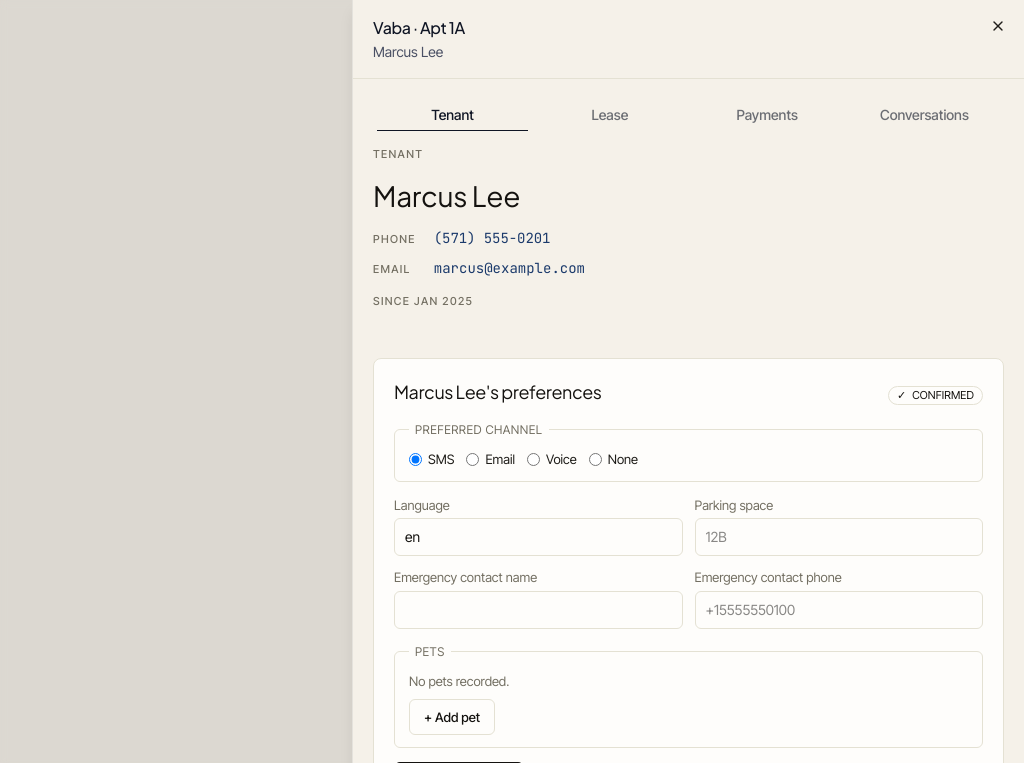
Test: UnitDetailDrawer › open with full detail › switches to Lease tab and renders LeaseBlock
Step 1. Click the tab with test id "unit-detail-tab-lease" → (610,115), box x1=533 y1=102 x2=687 y2=128
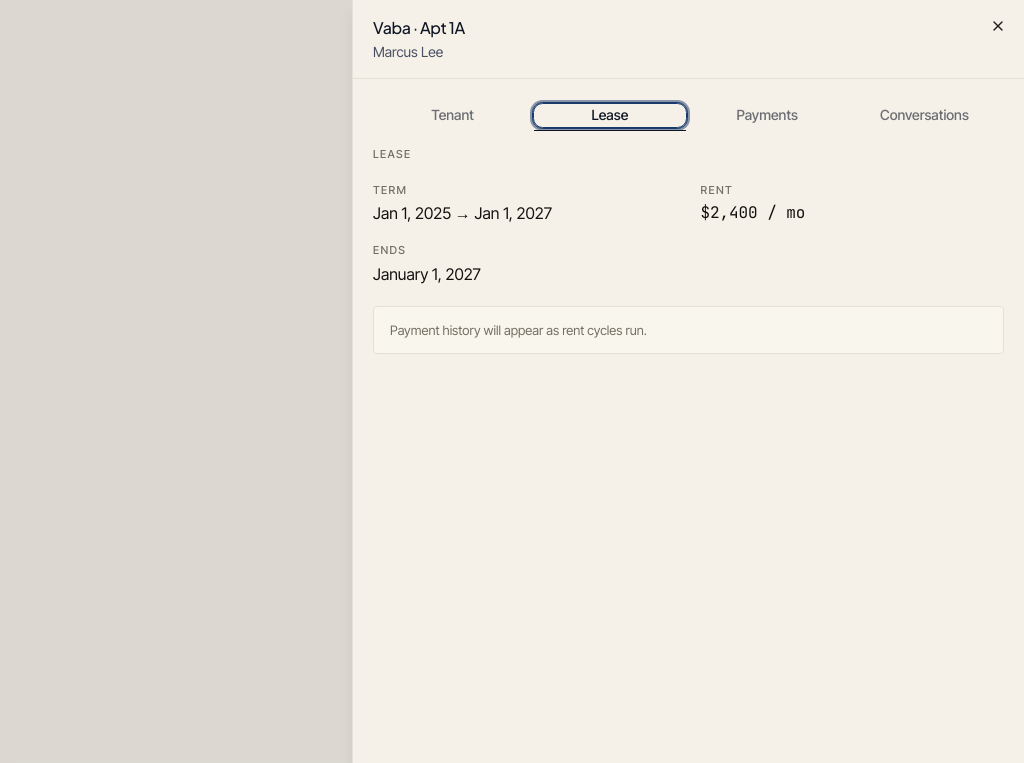
Expected: the element with test id "unit-detail-lease-term" is shown, x1=373 y1=183 x2=552 y2=223
